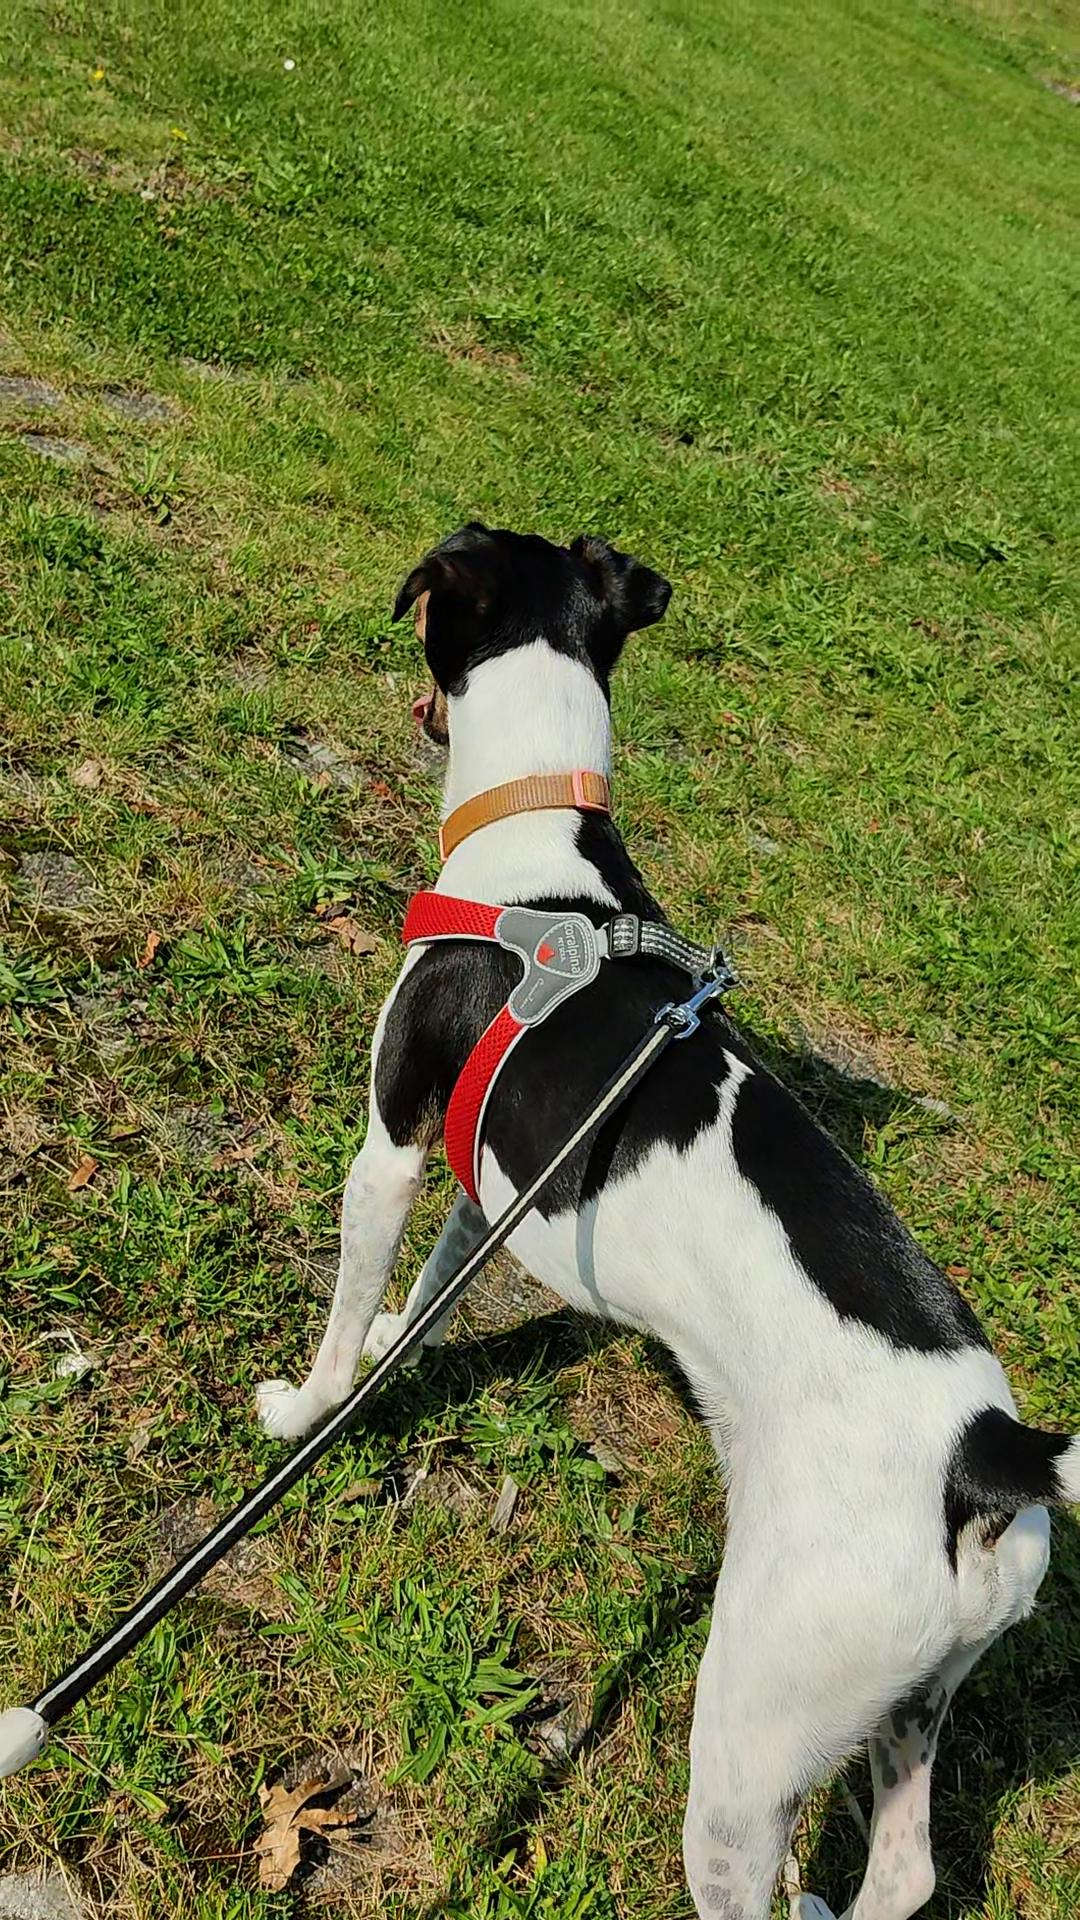Dog: (233, 501, 1079, 1919)
